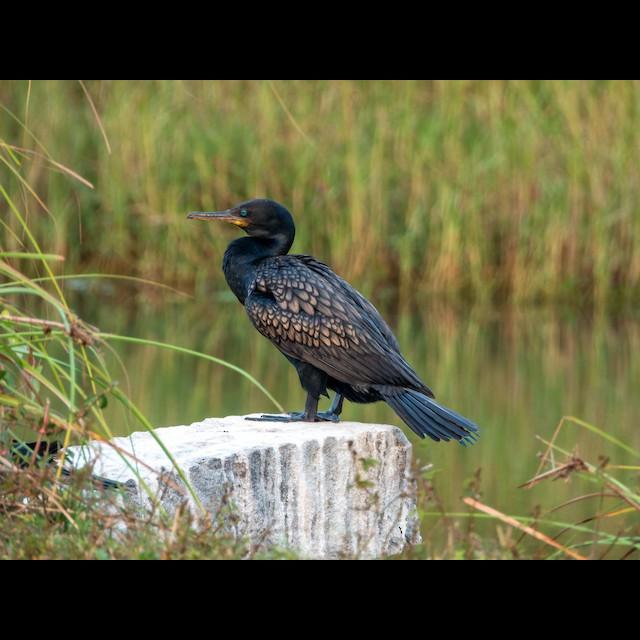cormorant: (183, 195, 479, 448)
